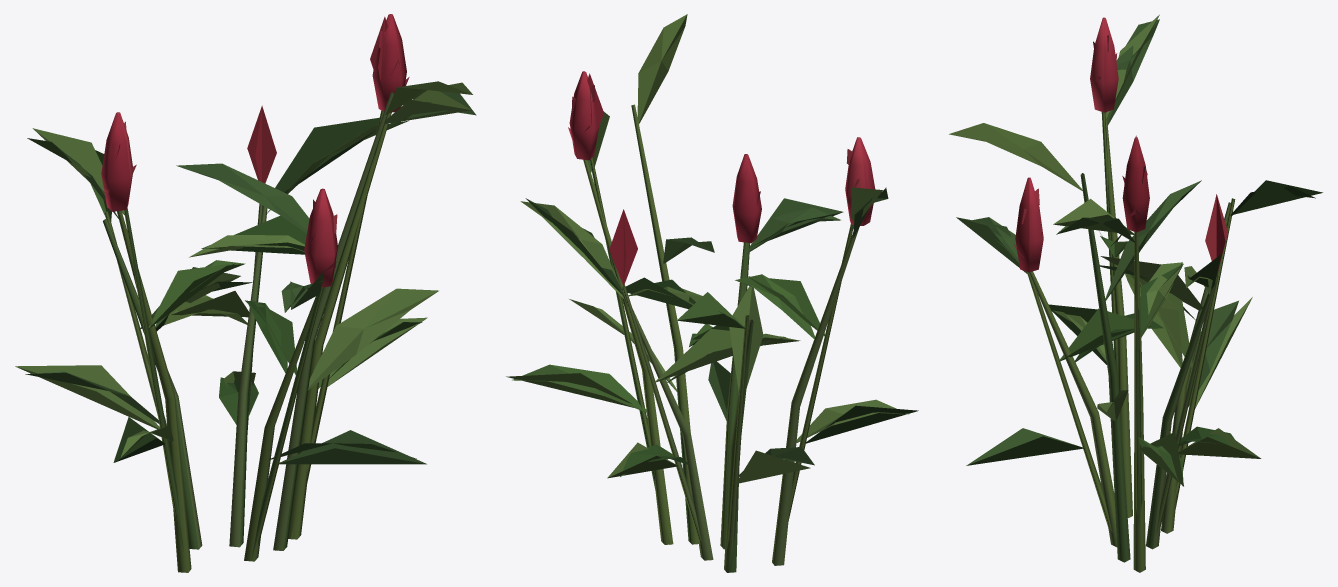
File: sg-ginger.glb
The picture shows the model from 3 angles, left to right: view 1: azimuth 30°, elevation 25°; view 2: azimuth 150°, elevation 25°; view 3: azimuth 270°, elevation 25°; orthographic projection. The views are drawn at different scales.
Visible parts, largest first — view 1: lod1_leaves, lod0_stems, lod0_leaves, lod0_inflorescences, lod1_stems, lod1_inflorescences; view 2: lod1_leaves, lod0_stems, lod0_leaves, lod1_stems, lod0_inflorescences, lod1_inflorescences; view 3: lod0_stems, lod0_leaves, lod1_leaves, lod0_inflorescences, lod1_stems, lod1_inflorescences.
Part boxes in pixels (bbox=[...]): lod1_leaves: bbox=[15, 90, 471, 464]; lod0_stems: bbox=[103, 92, 394, 572]; lod0_leaves: bbox=[25, 81, 476, 459]; lod0_inflorescences: bbox=[101, 14, 409, 287]; lod1_stems: bbox=[104, 110, 383, 568]; lod1_inflorescences: bbox=[247, 16, 399, 183]; lod1_leaves: bbox=[506, 111, 918, 483]; lod0_stems: bbox=[583, 104, 859, 572]; lod0_leaves: bbox=[512, 14, 908, 476]; lod1_stems: bbox=[589, 157, 853, 567]; lod0_inflorescences: bbox=[568, 71, 875, 243]; lod1_inflorescences: bbox=[587, 73, 637, 286]; lod0_stems: bbox=[1029, 112, 1230, 572]; lod0_leaves: bbox=[949, 19, 1315, 486]; lod1_leaves: bbox=[956, 14, 1322, 486]; lod0_inflorescences: bbox=[1013, 17, 1149, 272]; lod1_stems: bbox=[1027, 112, 1235, 534]; lod1_inflorescences: bbox=[1124, 135, 1228, 275].
Bounding box in the file's own units: 1.42 × 1.64 × 1.17.
